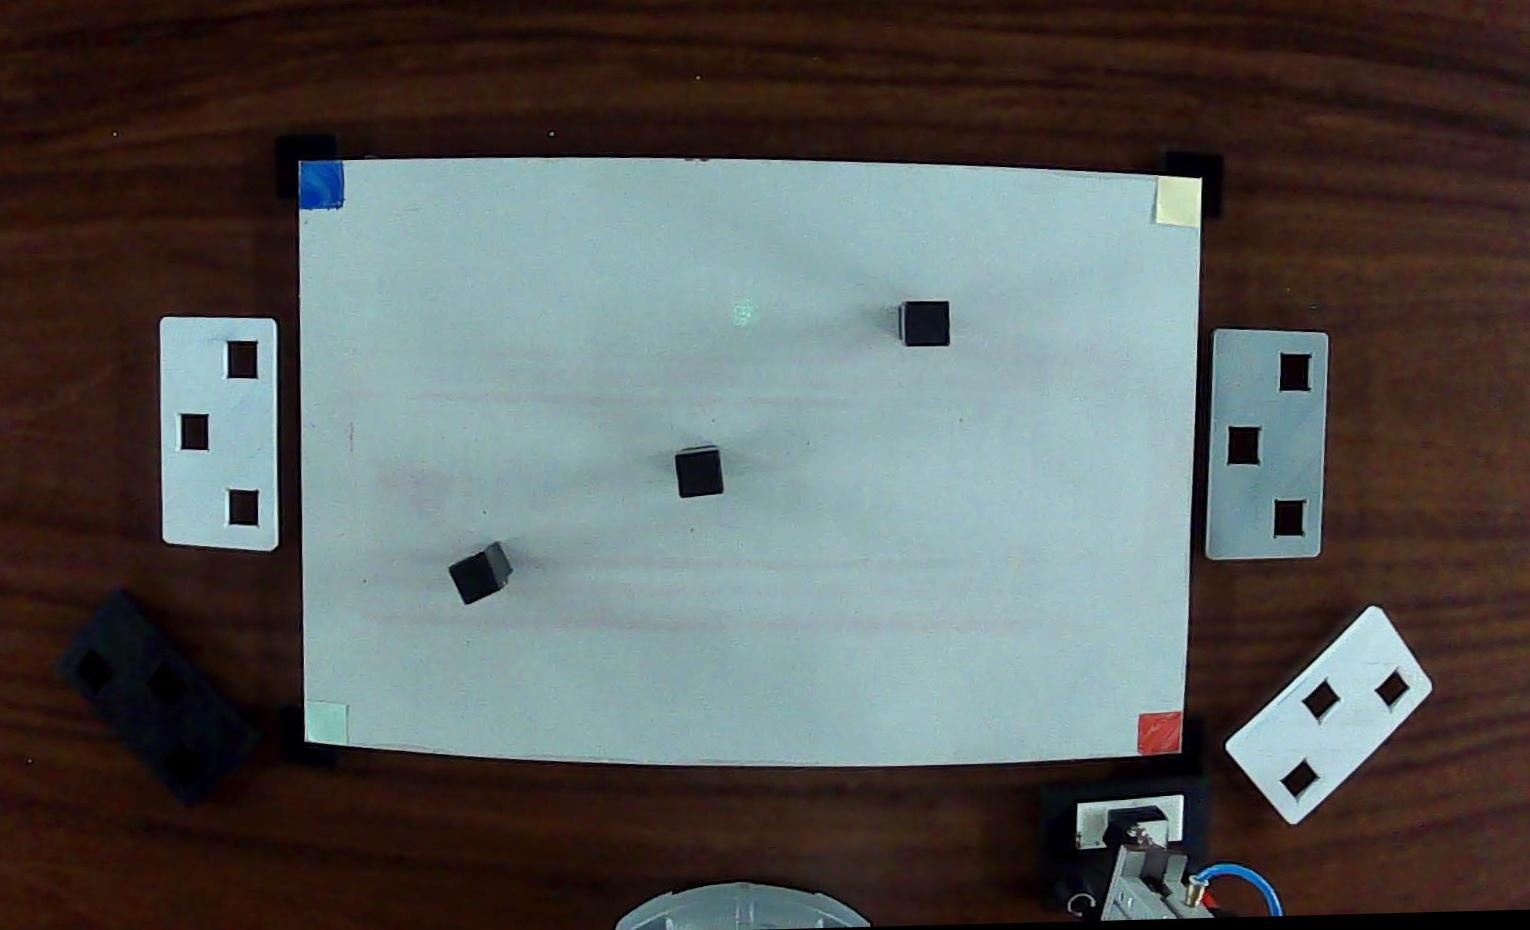peca_preta: (448, 552, 501, 605), (674, 450, 723, 498), (906, 302, 949, 346)
